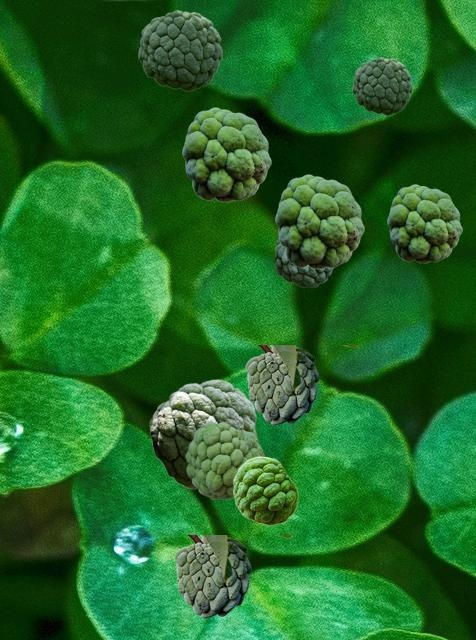atis: (149, 379, 256, 488), (174, 535, 291, 617), (245, 345, 357, 424), (182, 107, 270, 201), (275, 174, 363, 268), (138, 10, 221, 90), (185, 422, 263, 498), (387, 184, 461, 262), (233, 456, 297, 524), (352, 57, 411, 114), (275, 240, 332, 286)
